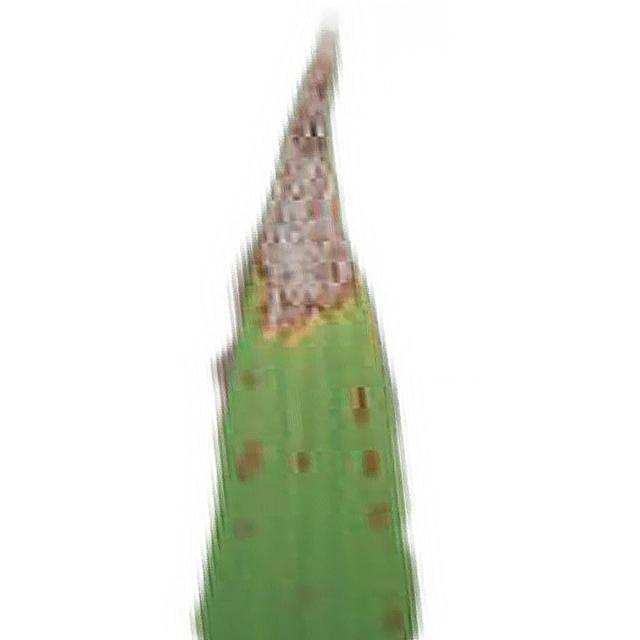Leaf scald: (128, 21, 492, 640)
